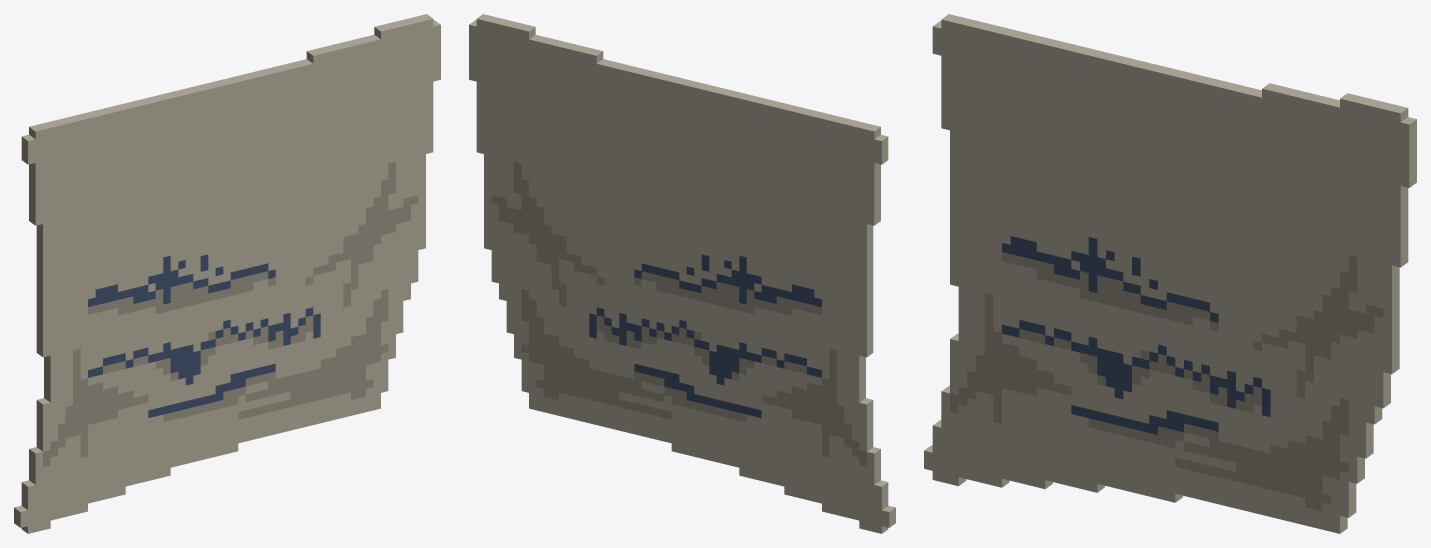
File: radar_kagit.fbx
3 views of the same model, side by side, from view 1: azimuth 30°, elevation 25°; view 2: azimuth 150°, elevation 25°; view 3: azimuth 330°, elevation 25° (orthographic). The views are drawn at different scales.
Parts seen in each view (by area): view 1: generated; view 2: generated; view 3: generated.
Part boxes in pixels (x1,y1,x2,y2): generated: (14, 14, 440, 533); generated: (469, 14, 895, 533); generated: (924, 14, 1416, 533).
Size of the model in its own units: 560 by 530 by 15.
